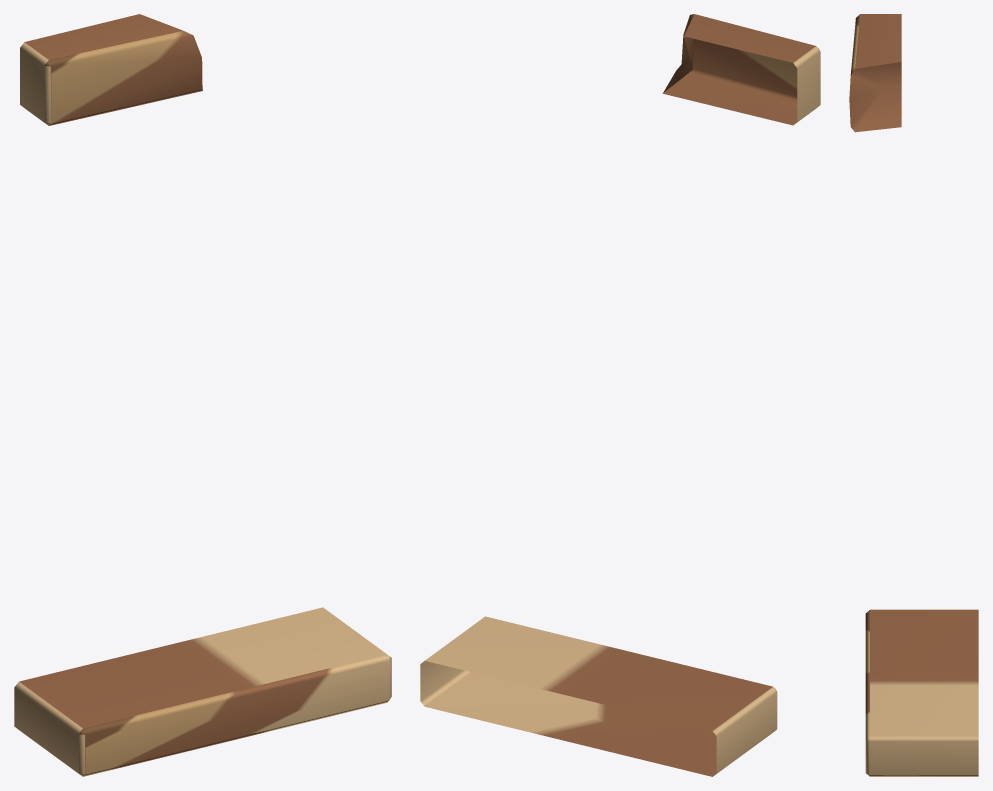
File: DBK_WinSmall_Trim_D_Side.fbx
3 views of the same model, side by side, from view 1: azimuth 30°, elevation 25°; view 2: azimuth 150°, elevation 25°; view 3: azimuth 270°, elevation 25° (orthographic). The views are drawn at different scales.
Visible parts, largest first — view 1: DBK_WinSmall_Trim_D_Side; view 2: DBK_WinSmall_Trim_D_Side; view 3: DBK_WinSmall_Trim_D_Side.
Part boxes in pixels (box(x1,y1,x2,y2)): DBK_WinSmall_Trim_D_Side: box(14, 14, 391, 776); DBK_WinSmall_Trim_D_Side: box(420, 14, 820, 776); DBK_WinSmall_Trim_D_Side: box(849, 14, 978, 776).
Bounding box in the file's own units: 71.89 × 142 × 26.88.
